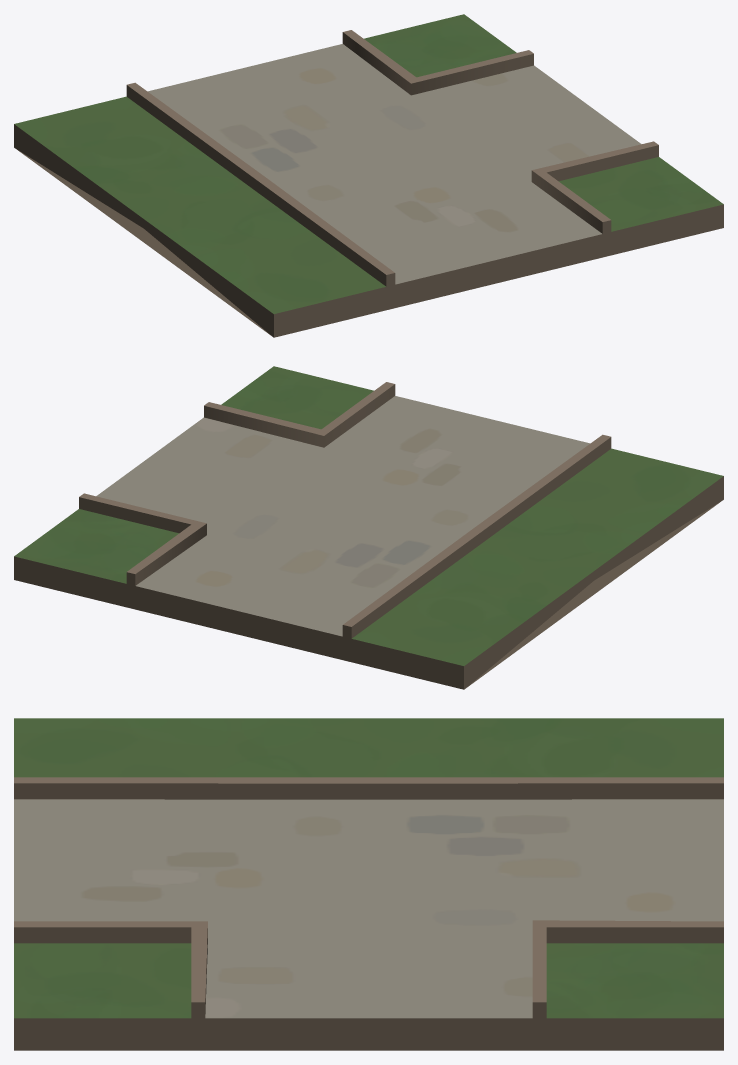
Rendered from Road_03.fbx.
3 renders of one model, top to bottom at view 1: azimuth 30°, elevation 25°; view 2: azimuth 150°, elevation 25°; view 3: azimuth 270°, elevation 25°, orthographic. The views are drawn at different scales.
Visible parts, largest first — view 1: Road_03; view 2: Road_03; view 3: Road_03.
Part boxes in pixels (x1,y1,x2,y2): Road_03: (14, 14, 723, 337); Road_03: (14, 366, 723, 689); Road_03: (14, 718, 723, 1050).
Size of the model in its own units: 400 by 30 by 400.
Materials: 1 (1 with a texture image).
